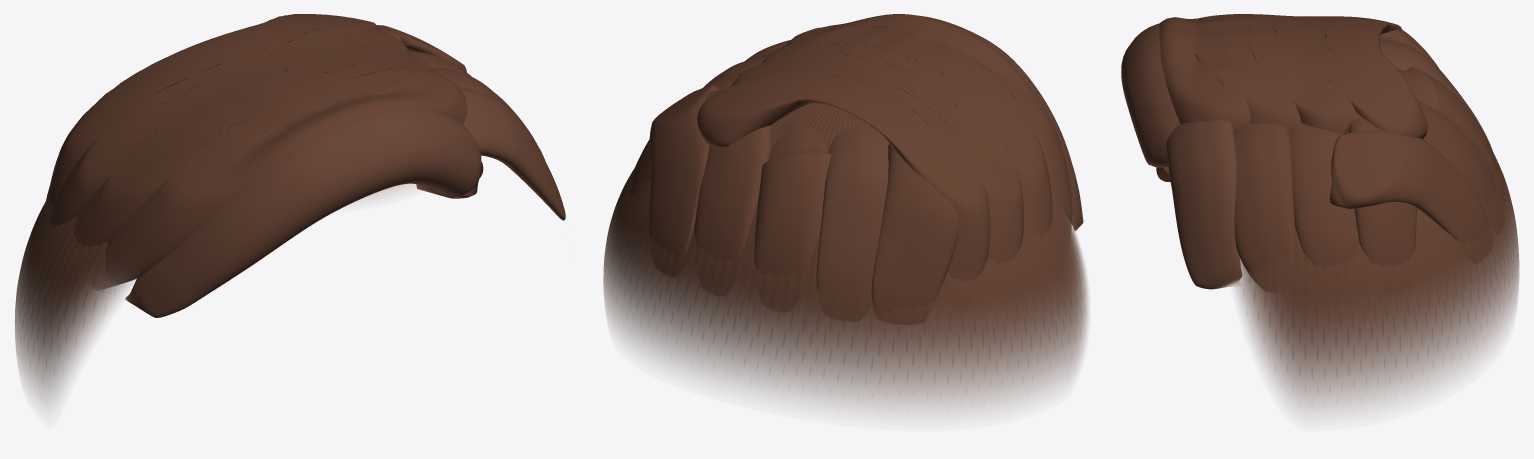
File: Masculine-taper-pashmina257-hair.glb
3 renders of one model, left to right at view 1: azimuth 30°, elevation 25°; view 2: azimuth 150°, elevation 25°; view 3: azimuth 270°, elevation 25°, orthographic. The views are drawn at different scales.
Visible parts, largest first — view 1: 226 hair / Hair252 / sculpted locks, 226 hair / Hair252 / gentle tonal variation, 226 hair / Hair257 / smooth side fade, 226 hair / Hair257 / directional fade marks; view 2: 226 hair / Hair252 / sculpted locks, 226 hair / Hair257 / smooth side fade, 226 hair / Hair252 / gentle tonal variation, 226 hair / Hair257 / directional fade marks; view 3: 226 hair / Hair252 / sculpted locks, 226 hair / Hair257 / smooth side fade, 226 hair / Hair252 / gentle tonal variation, 226 hair / Hair257 / directional fade marks.
Part boxes in pixels (x1,y1,x2,y2): 226 hair / Hair252 / sculpted locks: (44, 14, 544, 288); 226 hair / Hair252 / gentle tonal variation: (125, 87, 565, 317); 226 hair / Hair257 / smooth side fade: (15, 184, 415, 405); 226 hair / Hair257 / directional fade marks: (16, 205, 107, 365); 226 hair / Hair252 / sculpted locks: (627, 14, 1072, 313); 226 hair / Hair257 / smooth side fade: (603, 103, 1088, 411); 226 hair / Hair252 / gentle tonal variation: (745, 15, 1083, 296); 226 hair / Hair257 / directional fade marks: (614, 171, 1081, 382); 226 hair / Hair252 / sculpted locks: (1159, 14, 1498, 288); 226 hair / Hair257 / smooth side fade: (1235, 67, 1519, 411); 226 hair / Hair252 / gentle tonal variation: (1121, 23, 1492, 289); 226 hair / Hair257 / directional fade marks: (1249, 158, 1514, 377).
Size of the model in its own units: 0.9723 by 0.6191 by 0.7439.
